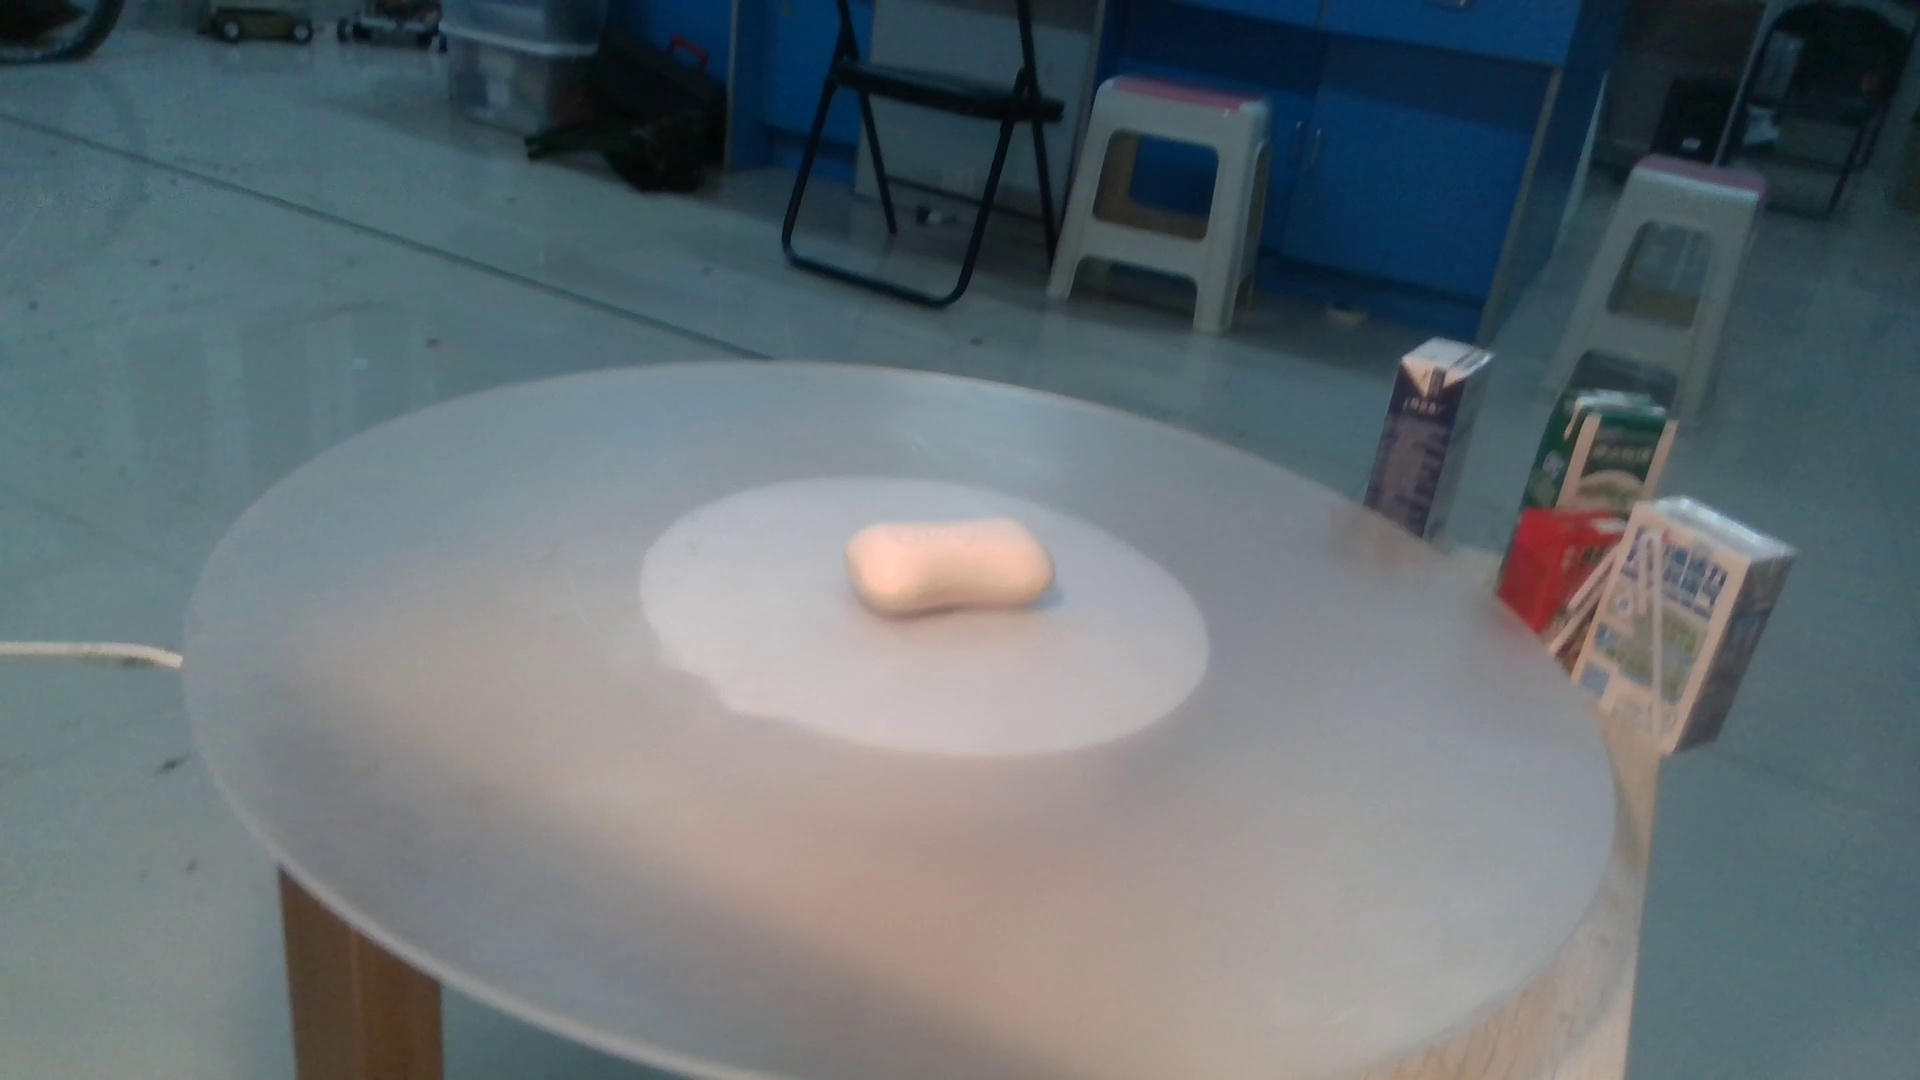CA003_1: (839, 502, 1073, 630)
